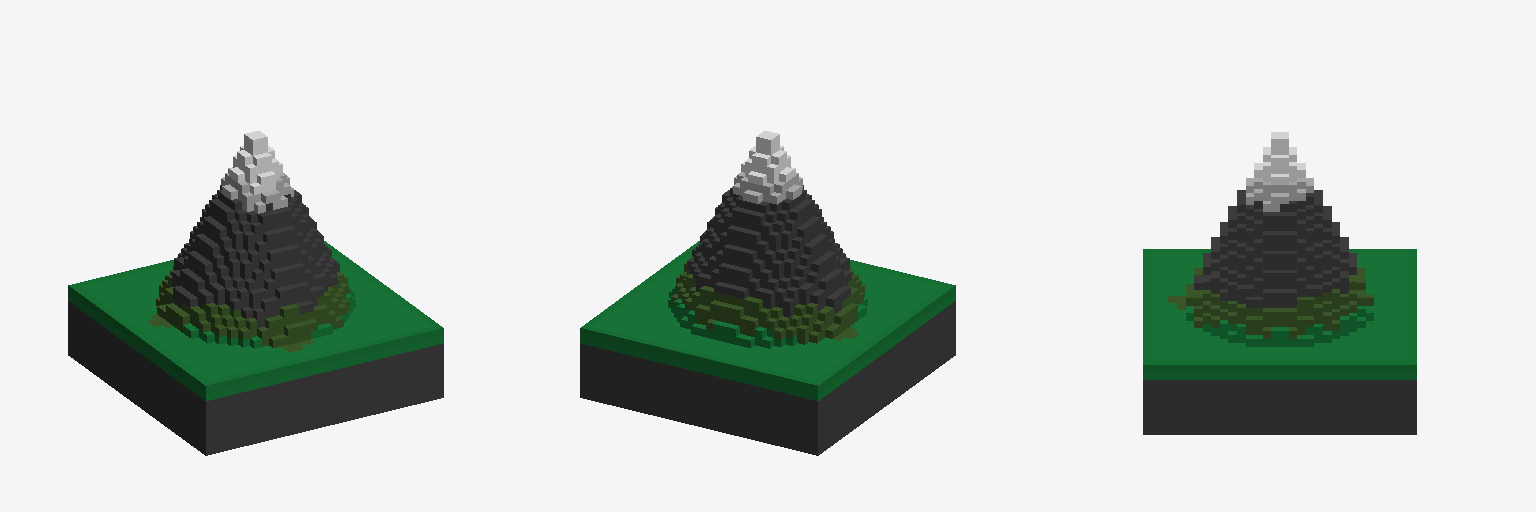
3 views of the same model, side by side, from view 1: azimuth 30°, elevation 25°; view 2: azimuth 150°, elevation 25°; view 3: azimuth 270°, elevation 25° (orthographic).
Parts seen in each view (by area): view 1: object 1; view 2: object 1; view 3: object 1.
Part boxes in pixels (x1,y1,x2,y2): object 1: (68, 131, 443, 455); object 1: (580, 131, 955, 455); object 1: (1143, 132, 1416, 434).
Bounding box in the file's own units: 3.2 × 3.1 × 3.2.
Materials: 1 (1 with a texture image).